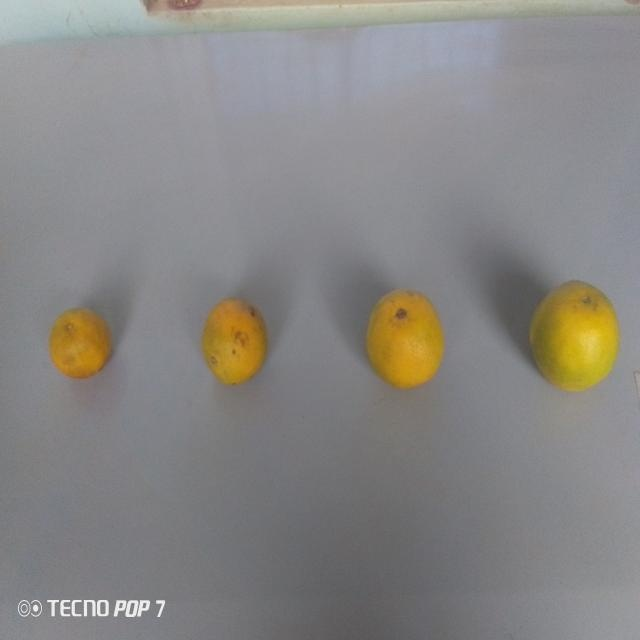agrume: (524, 272, 628, 395), (362, 285, 448, 396), (200, 289, 271, 392), (41, 305, 115, 384)
